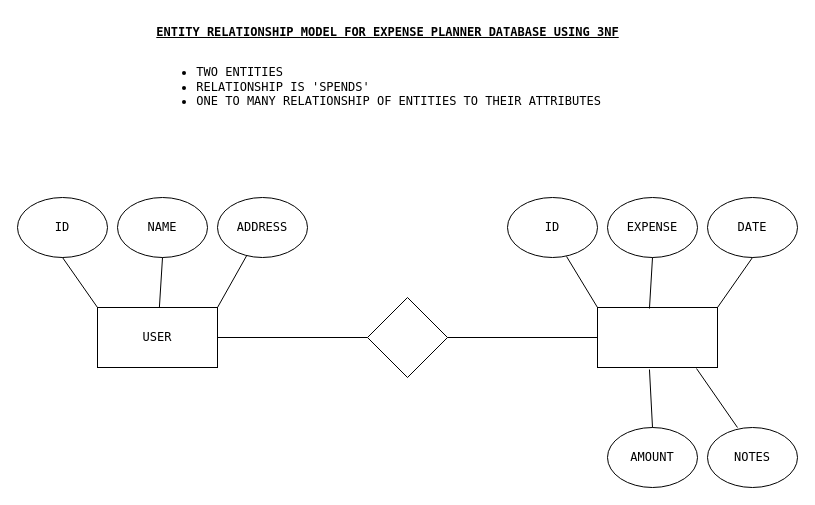
Image size: 815x505. Some labels were removed from this diagram. The shapes that lost their labels are listed below. From the top down, each one's centre as x and y in pixels, then its label:
pixel 407 337: SPENDS
pixel 657 337: DAILY EXPENSE
